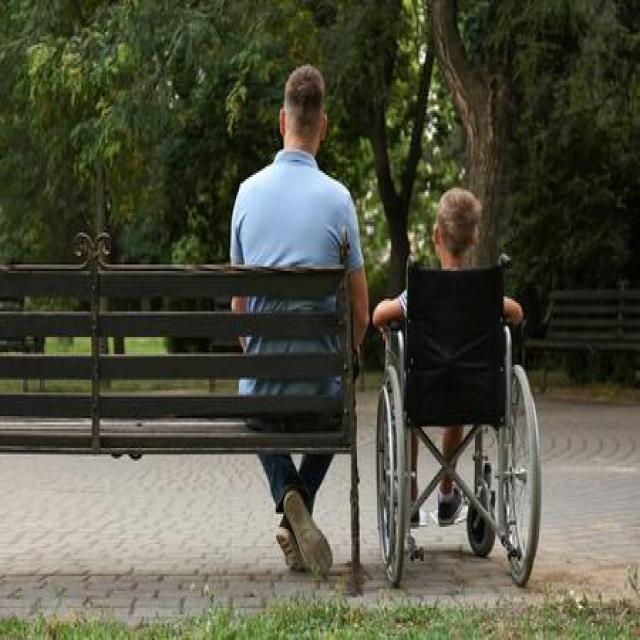wheelchairs: (359, 247, 554, 592)
